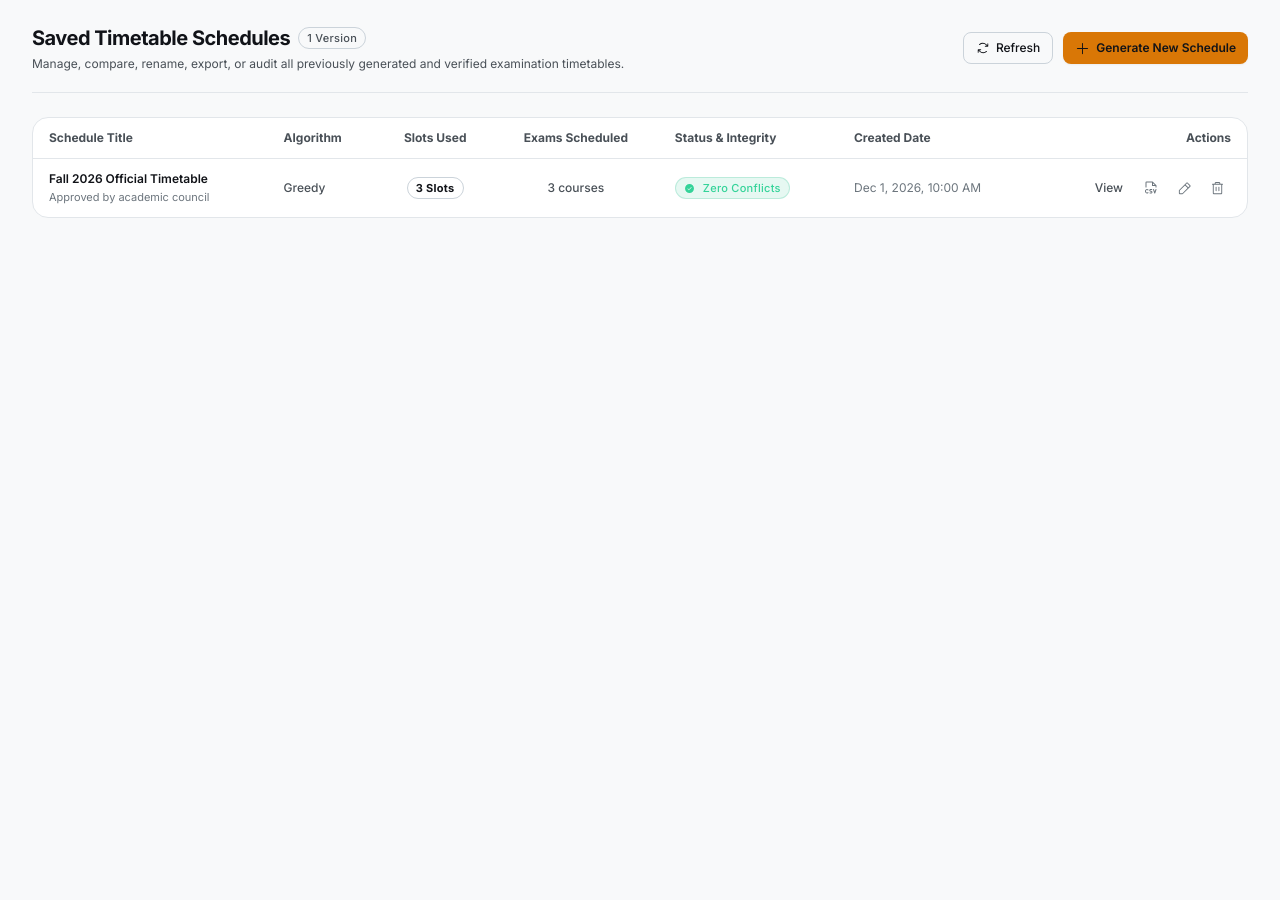
Test: Phase 8: Timetable Management & Calendar › TimetableHistoryPage › opens delete confirmation dialog and warns about course preservation
The width and height of the screenshot is (1280, 900).
Expected: the heading "Saved Timetable Schedules" is shown, [32,24,290,52]
What coordinates should you click on to do the following:
click the button titled "Delete Schedule"
I would click on:
 (1218, 188)
Its box is [1204,174,1231,202].
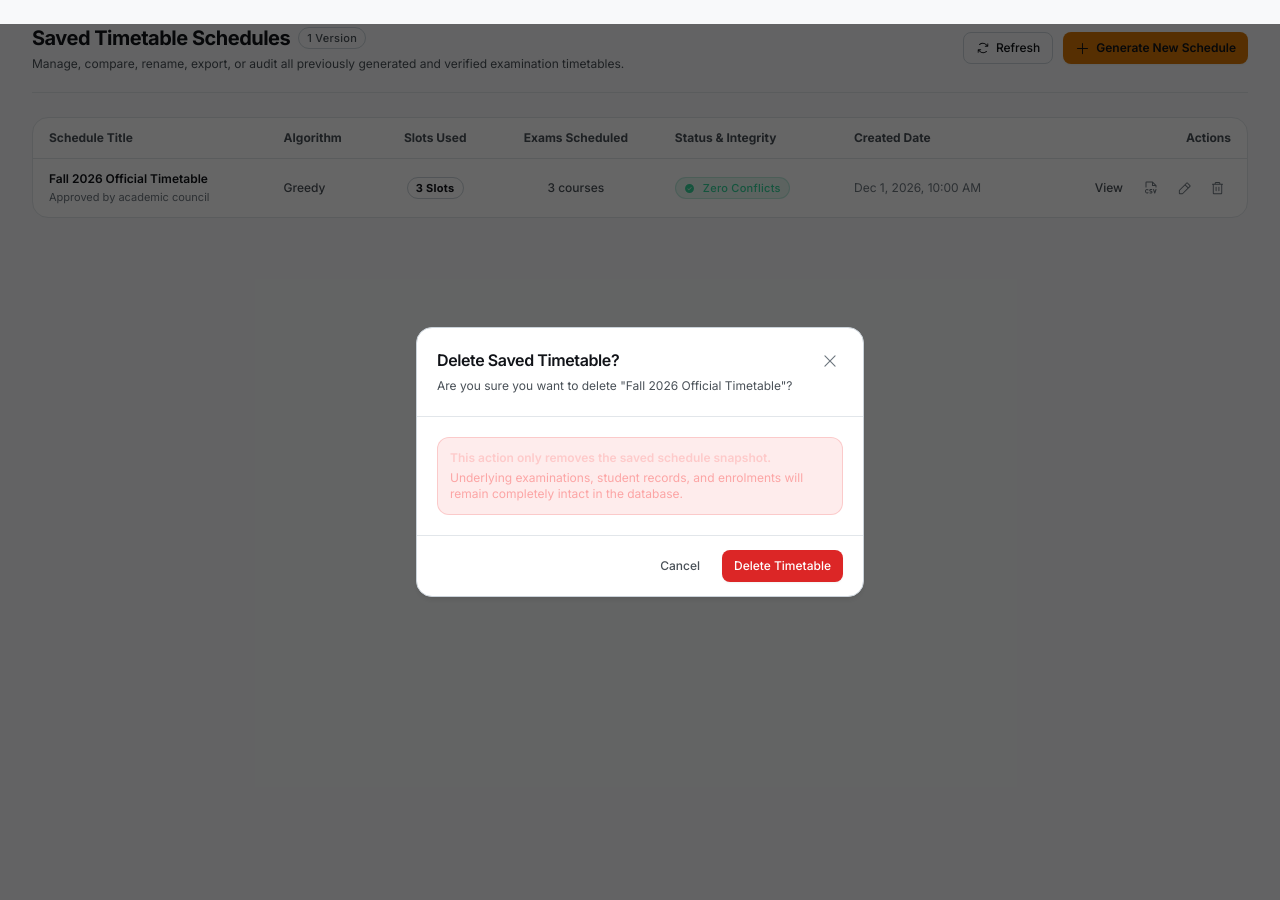
Now the heading "Delete Saved Timetable?" is shown, box [437,350,619,370]
Now the text "Underlying examinations, student records, and enrolments will remain completely intact" is shown, box [450,470,803,501]
